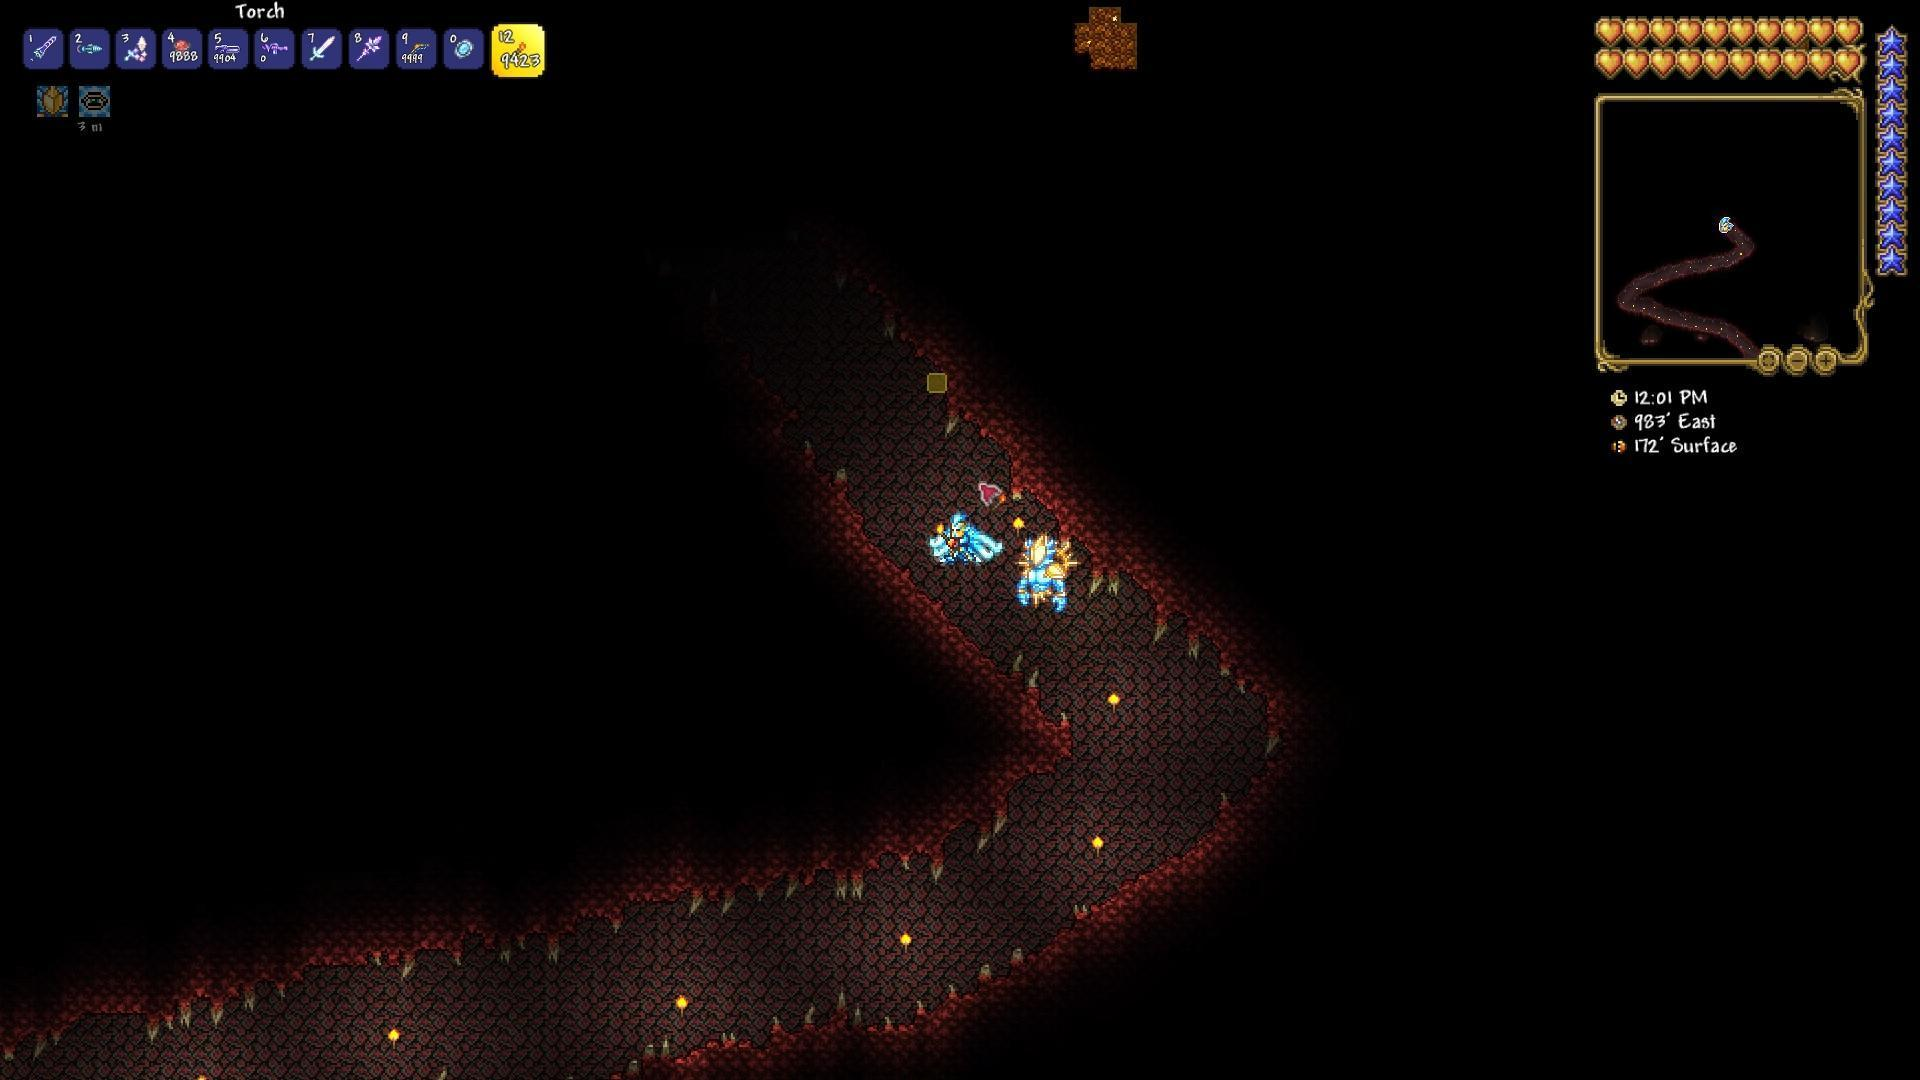mirror: (450, 36, 476, 61)
